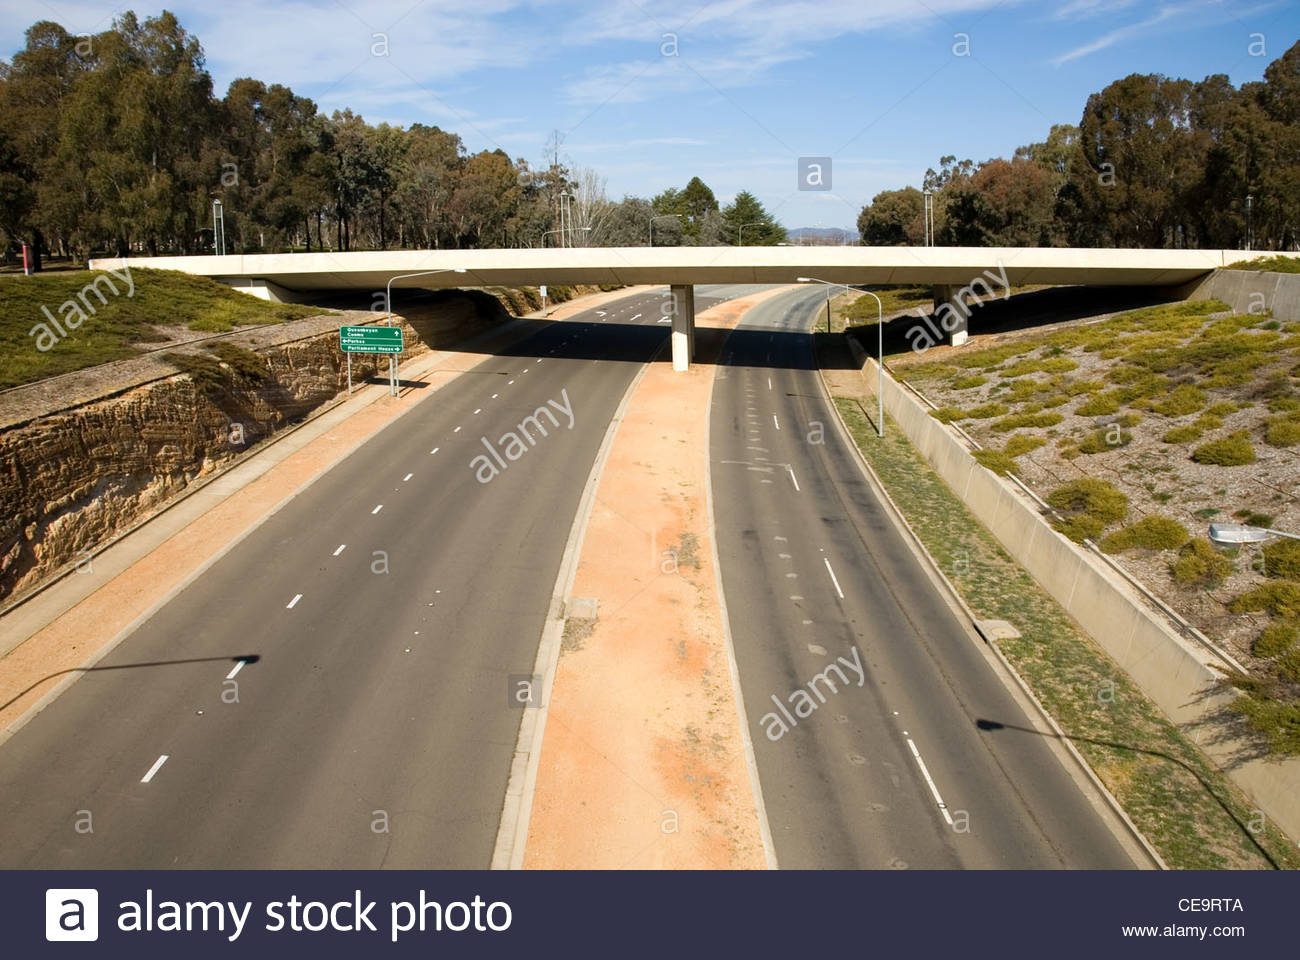bridge: (88, 245, 1294, 280)
